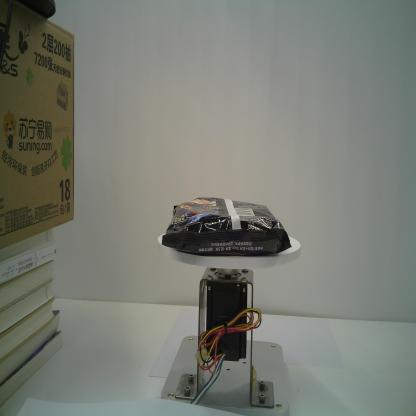Instant Noodles: (161, 196, 293, 258)
